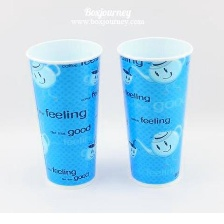paper_cup: (20, 33, 107, 192), (111, 32, 197, 190)
